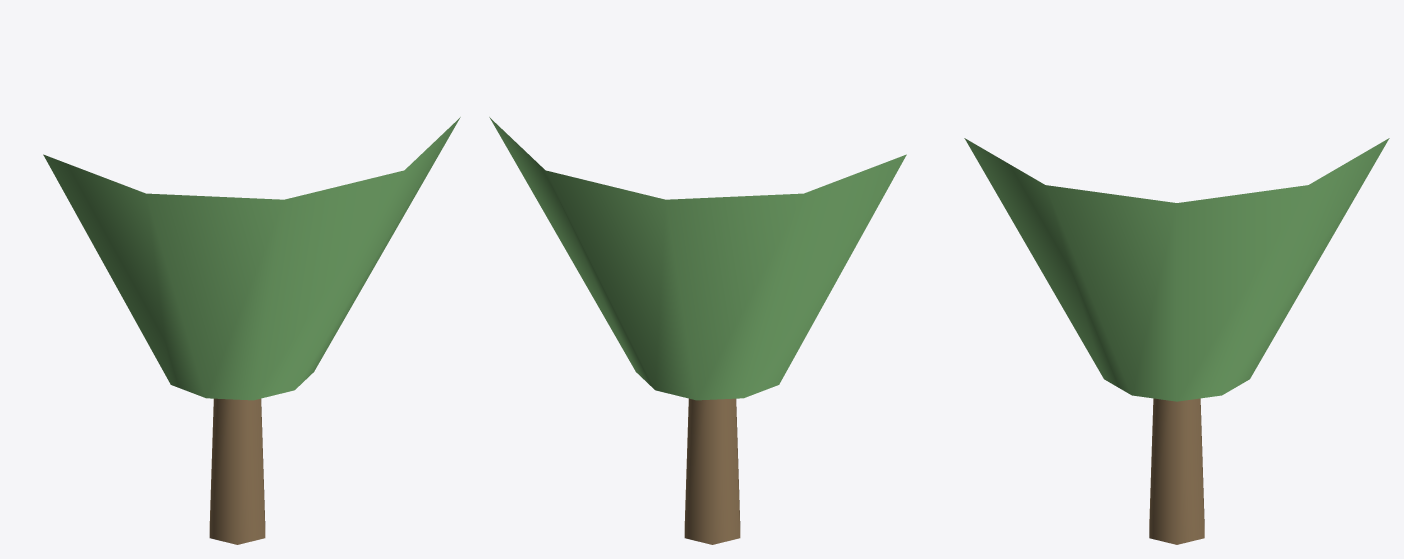
The model's file is tree-vase.glb.
The picture shows the model from 3 angles, left to right: view 1: azimuth 30°, elevation 25°; view 2: azimuth 150°, elevation 25°; view 3: azimuth 270°, elevation 25°; orthographic projection.
Size of the model in its own units: 0.7 by 0.73 by 0.6657.
